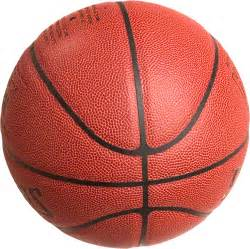basketball: (1, 1, 248, 249)
